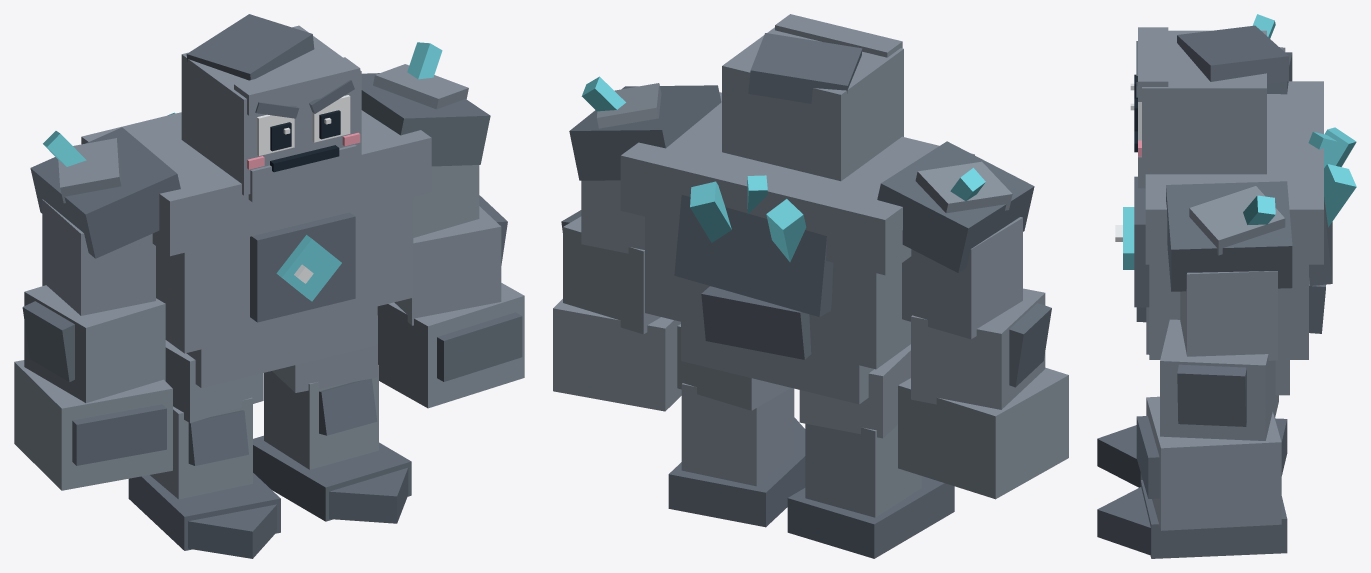
Rendered from StoneGolem_Static.glb.
3 views of the same model, side by side, from view 1: azimuth 30°, elevation 25°; view 2: azimuth 150°, elevation 25°; view 3: azimuth 270°, elevation 25° (orthographic).
Parts seen in each view (by area): view 1: Chest, Torso, Fist_L, Head, Forearm_L, Fist_R, Shoulder_L, UpperArm_L, Forearm_R, Pelvis, CorePlate, Shin_R (+25 smaller); view 2: Chest, Head, Fist_L, Torso, BackPlateUp, Fist_R, UpperArm_L, Shin_R, Forearm_L, Shoulder_L, Shin_L, Foot_L (+18 smaller); view 3: Head, Fist_R, Chest, UpperArm_R, Shoulder_R, Forearm_R, Torso, HeadCap, Foot_R, ElbowPlate_R, ShoulderTop_R, Toe_R (+14 smaller).
Boxes of the visible parts, bbox=[...] form: Chest: bbox=[81, 110, 431, 256]; Torso: bbox=[156, 197, 413, 353]; Fist_L: bbox=[14, 360, 172, 490]; Head: bbox=[181, 25, 361, 195]; Forearm_L: bbox=[24, 285, 165, 402]; Fist_R: bbox=[377, 283, 524, 408]; Shoulder_L: bbox=[30, 127, 180, 258]; UpperArm_L: bbox=[42, 199, 155, 315]; Forearm_R: bbox=[394, 206, 501, 325]; Pelvis: bbox=[186, 306, 377, 387]; CorePlate: bbox=[250, 212, 355, 322]; Shin_R: bbox=[264, 365, 378, 469]; Chest: bbox=[620, 92, 974, 275]; Head: bbox=[722, 27, 903, 181]; Fist_L: bbox=[898, 367, 1068, 499]; Torso: bbox=[645, 217, 910, 369]; BackPlateUp: bbox=[674, 195, 833, 316]; Fist_R: bbox=[553, 299, 681, 411]; UpperArm_L: bbox=[902, 217, 1022, 339]; Shin_R: bbox=[681, 383, 794, 486]; Forearm_L: bbox=[911, 288, 1045, 409]; Shoulder_L: bbox=[877, 141, 1034, 272]; Shin_L: bbox=[805, 423, 921, 517]; Foot_L: bbox=[787, 476, 954, 558]; Head: bbox=[1142, 30, 1266, 184]; Fist_R: bbox=[1146, 396, 1281, 530]; Chest: bbox=[1145, 81, 1323, 264]; UpperArm_R: bbox=[1180, 271, 1277, 360]; Shoulder_R: bbox=[1166, 181, 1292, 291]; Forearm_R: bbox=[1160, 319, 1275, 440]; Torso: bbox=[1149, 264, 1308, 359]; HeadCap: bbox=[1177, 25, 1288, 83]; Foot_R: bbox=[1140, 480, 1287, 558]; ElbowPlate_R: bbox=[1177, 364, 1246, 426]; ShoulderTop_R: bbox=[1189, 186, 1285, 255]; Toe_R: bbox=[1097, 487, 1150, 555].
Size of the model in its own units: 14.16 by 13.36 by 6.84.
